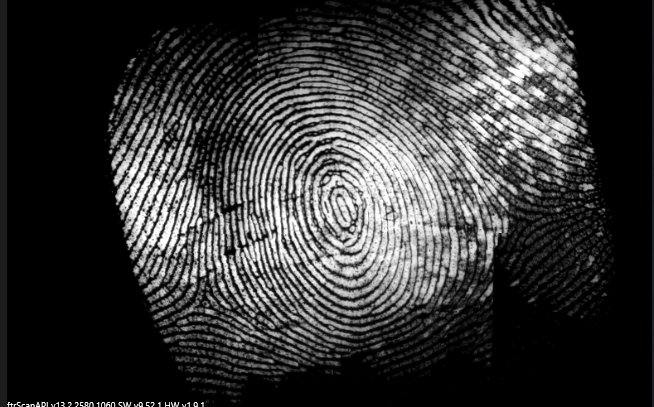deltas: (494, 201, 545, 256), (181, 272, 232, 322)
nucleo: (321, 180, 361, 230)
